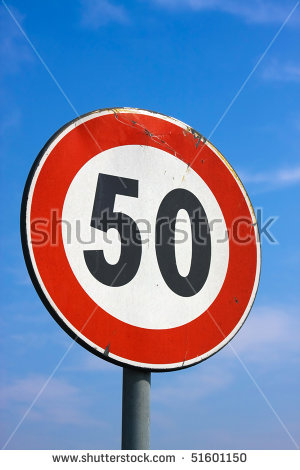Speed_limit_50km: (26, 103, 262, 370)
